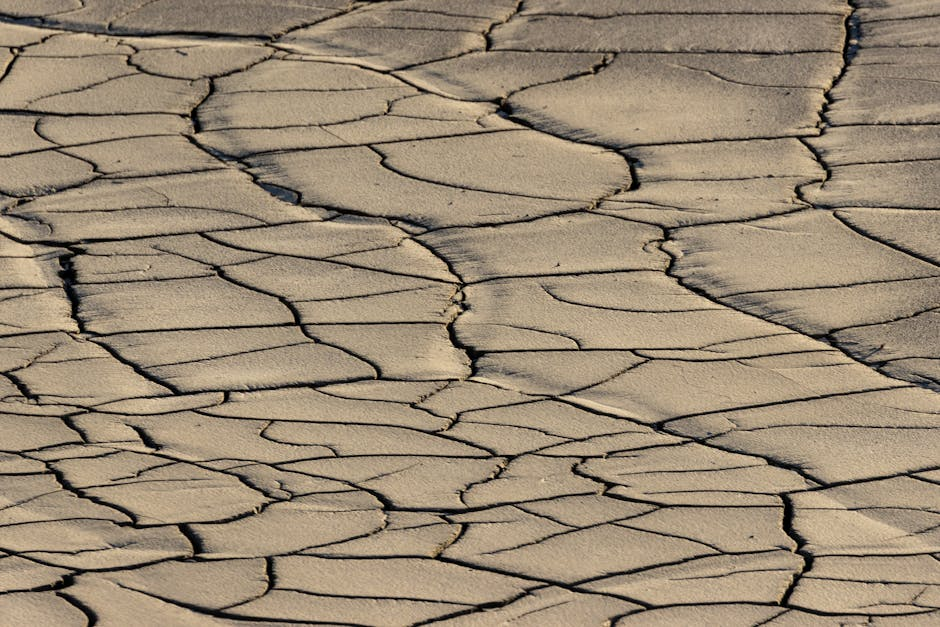深大裂缝: (783, 4, 863, 221)
细微裂纹: (6, 578, 651, 627)
网状裂隙: (10, 97, 653, 549)
